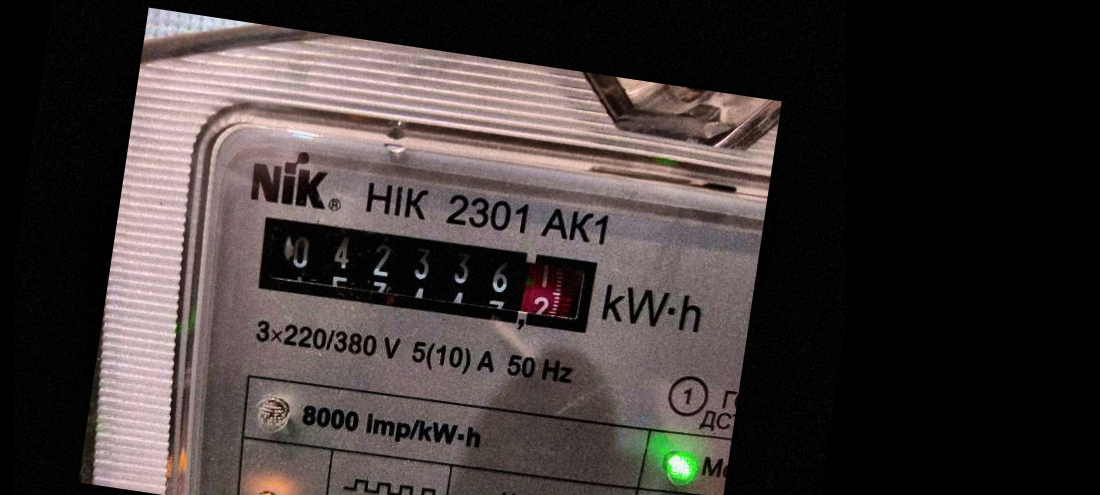0: (289, 233, 314, 270)
1: (536, 260, 553, 291)
2: (369, 241, 394, 279), (529, 293, 551, 317)
3: (410, 243, 435, 283), (448, 248, 473, 287)
4: (330, 232, 354, 271)
6: (486, 257, 513, 295)
screen: (246, 202, 608, 346)
